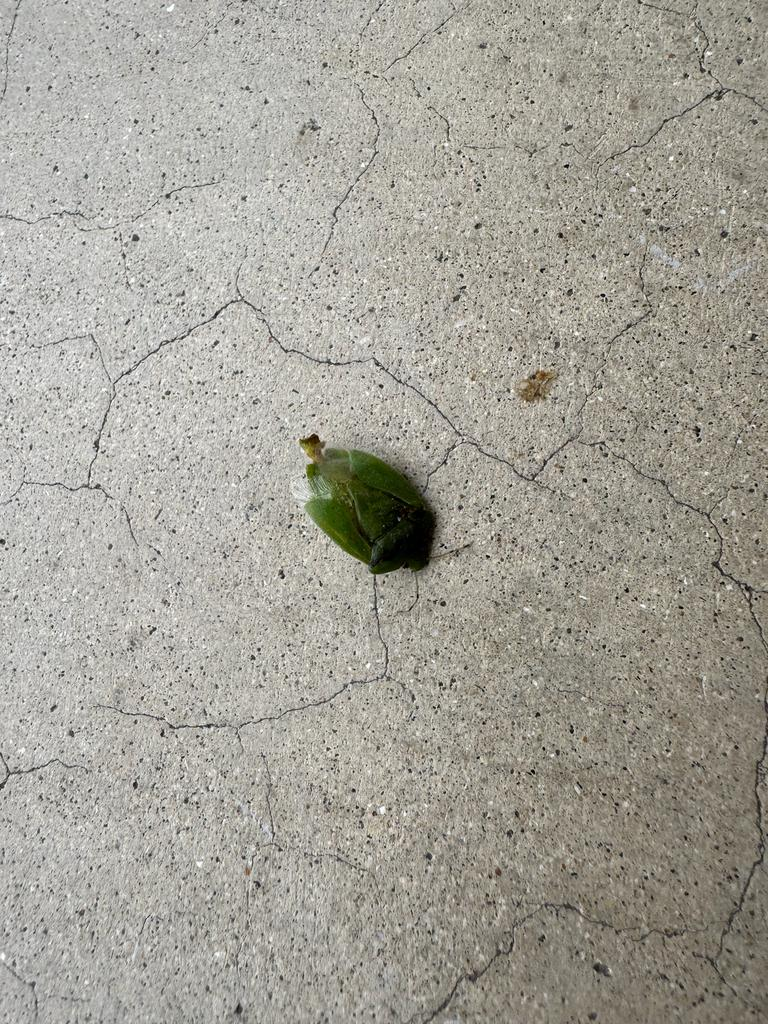stink_bugs: (262, 394, 504, 619)
